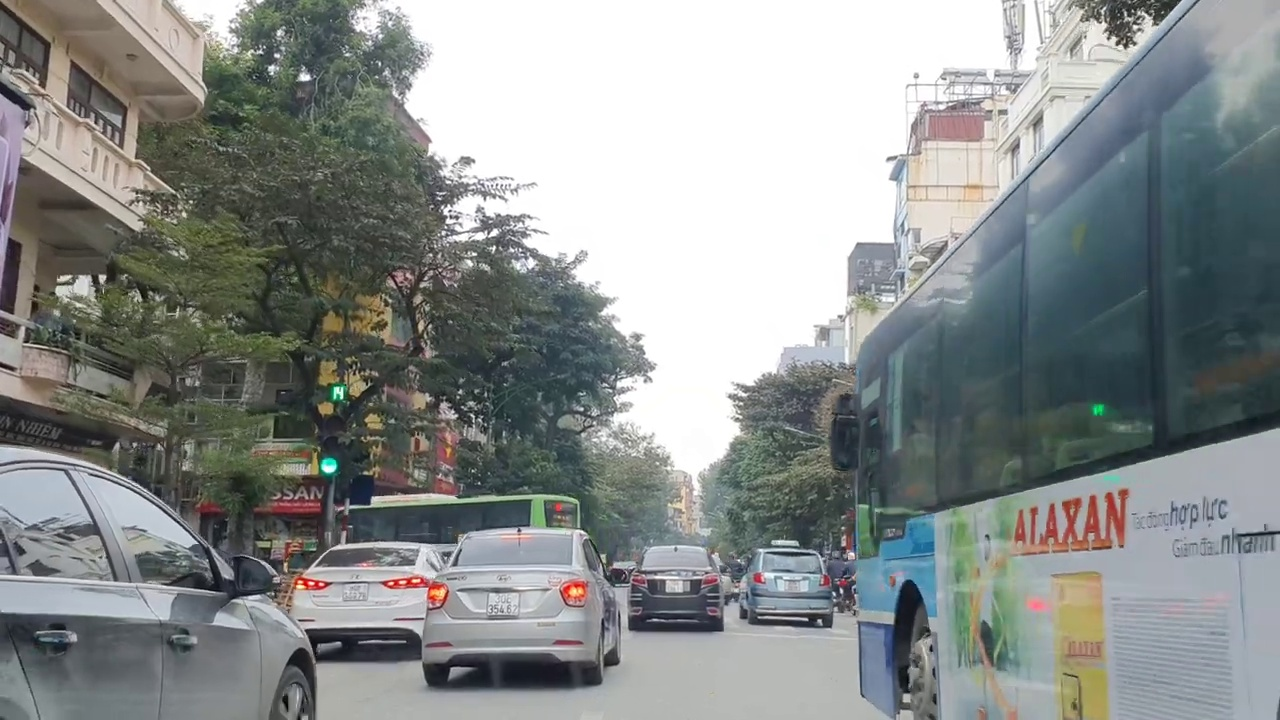vehicle-plate: (336, 577, 377, 610)
